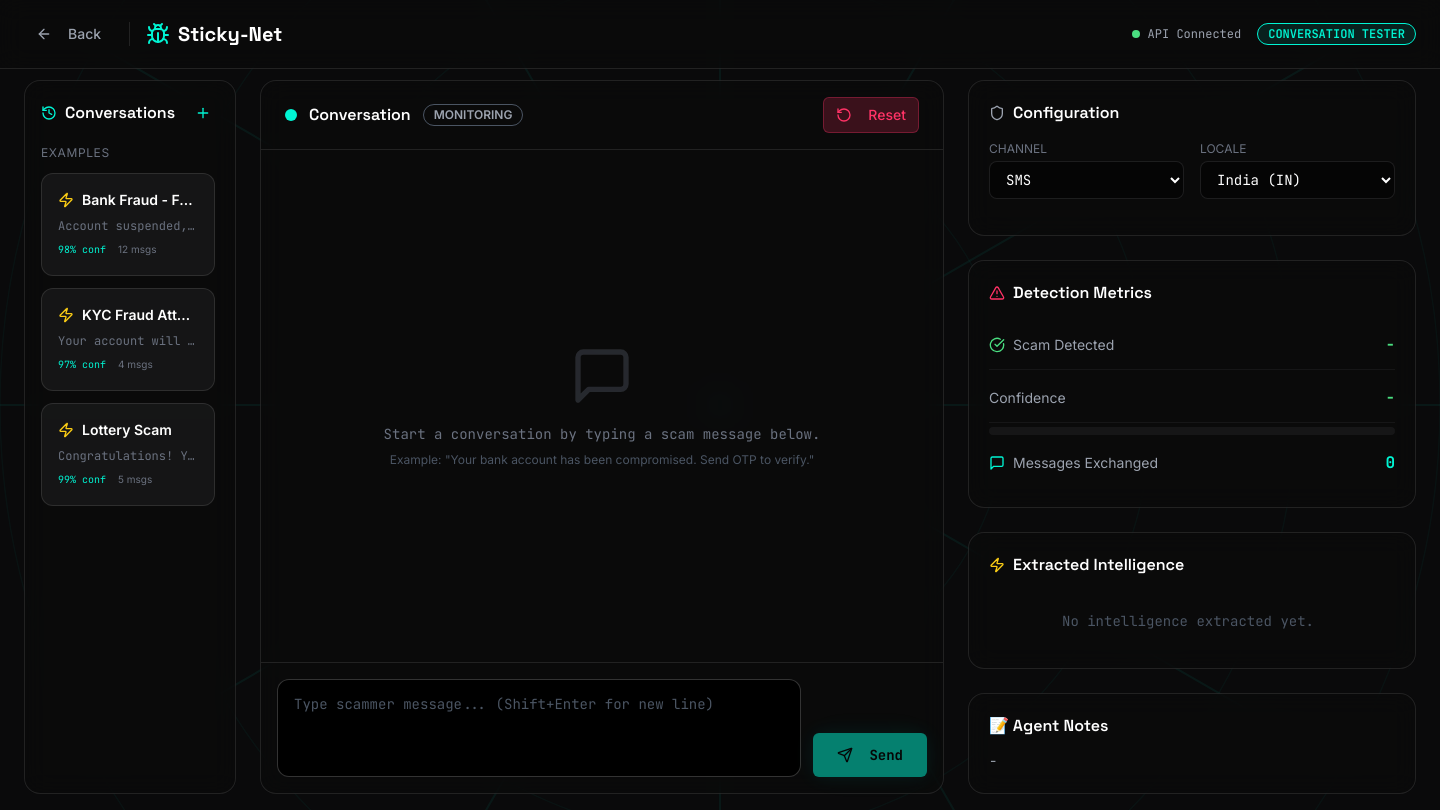
Test: ChatDashboard › sends the message, history and metadata to the detailed endpoint
Expected: the text "API Connected" is shown, [1148,26,1241,42]
Type "first" into the text box with placeholder "Type scammer message... (Shift+Enter for new line)" at (539, 728), box [277,679,801,777]
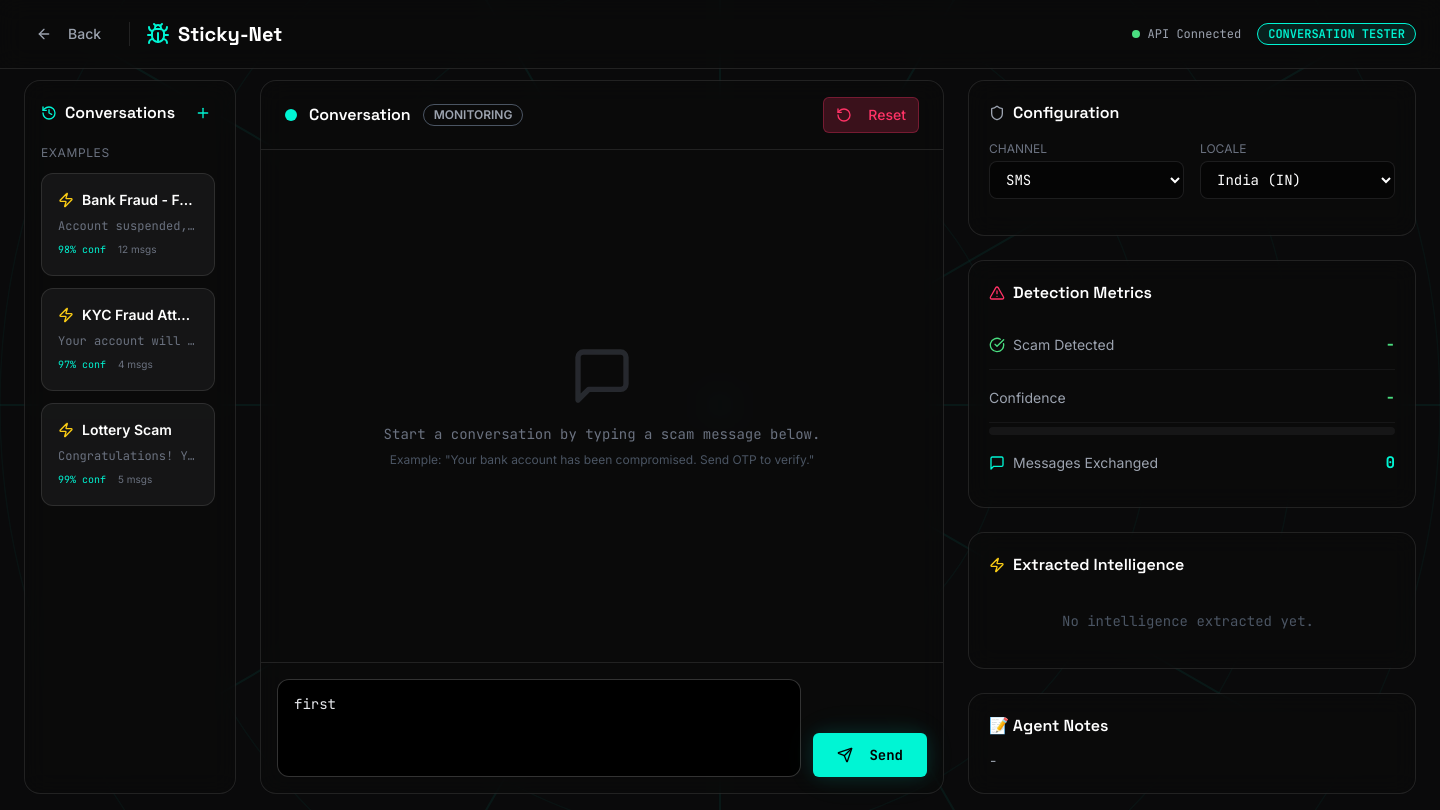
Click the button "Send" at (870, 755), box [813,733,927,777]
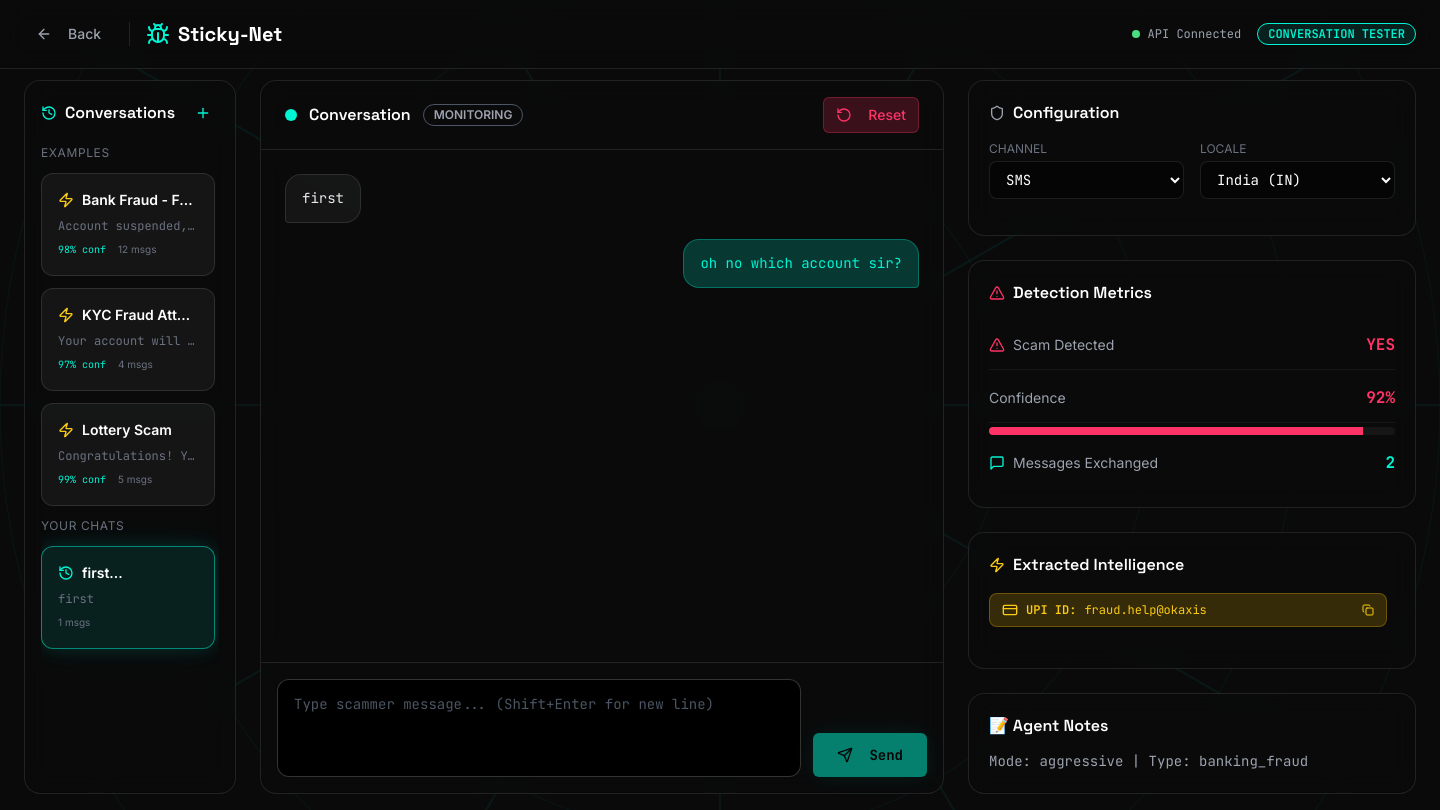
Expected: the text "oh no which account sir?" is shown, [700,252,902,275]
Type "second" into the text box with placeholder "Type scammer message... (Shift+Enter for new line)" at (539, 728), box [277,679,801,777]
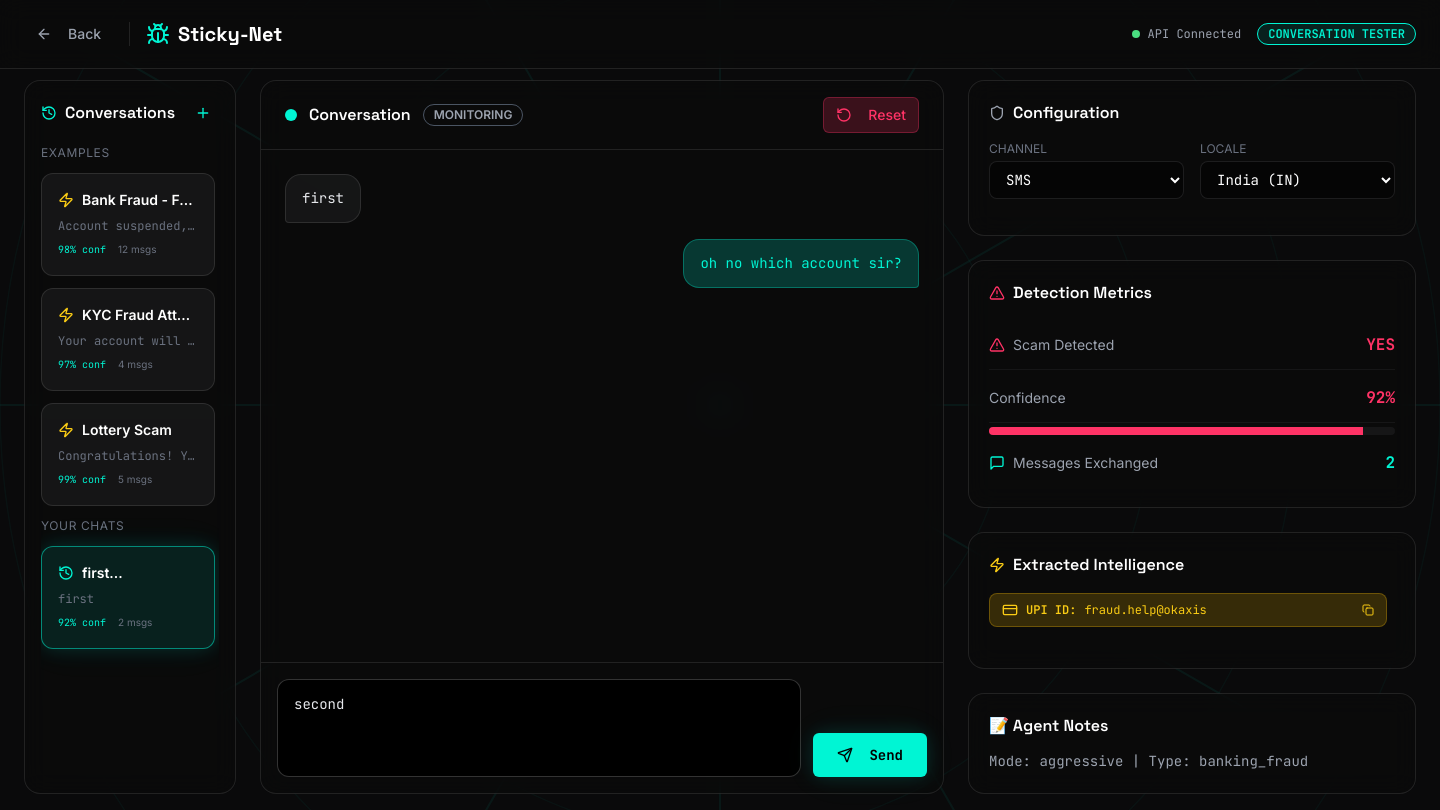
Click the button "Send" at (870, 755), box [813,733,927,777]
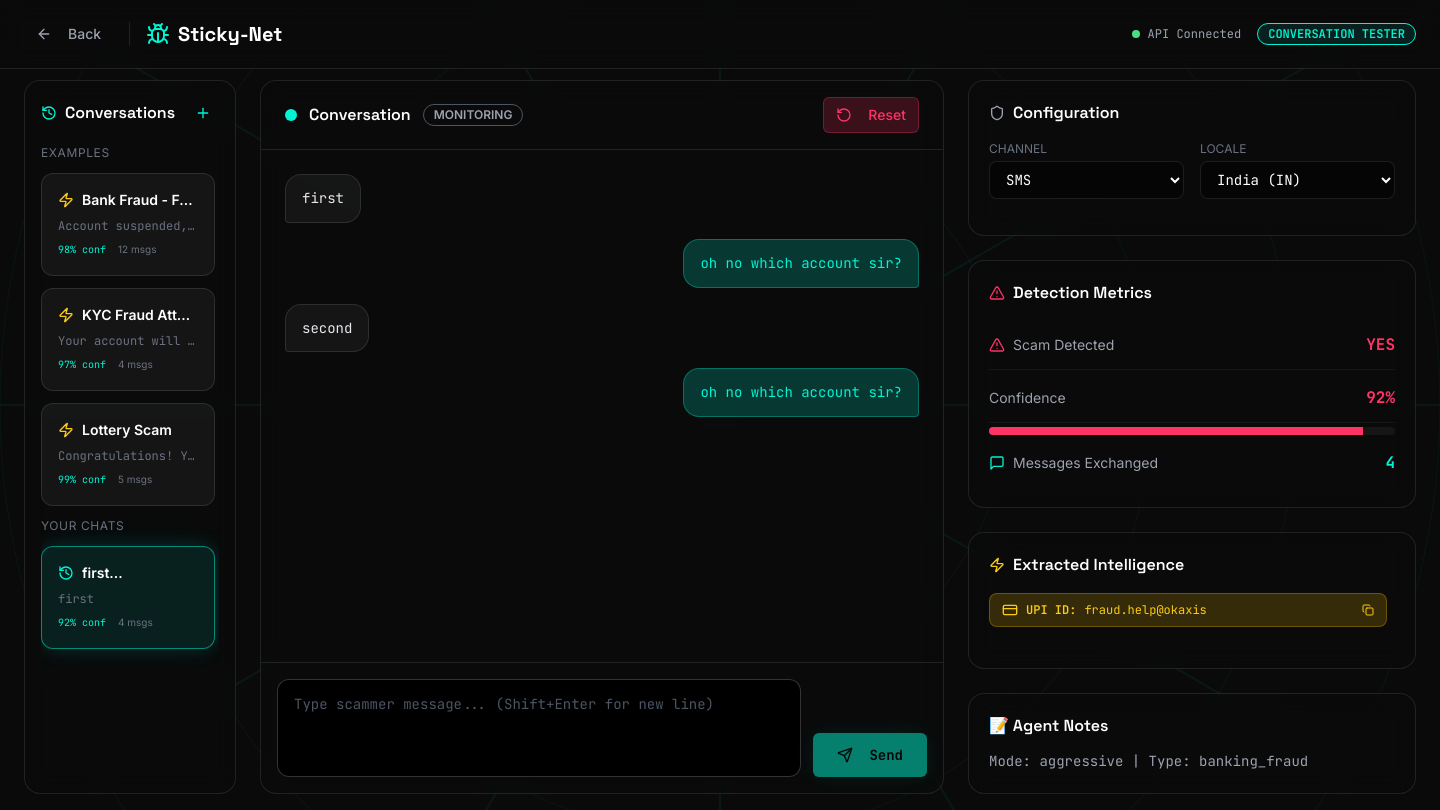
Expected: the text "second" is shown, [302,316,352,339]
